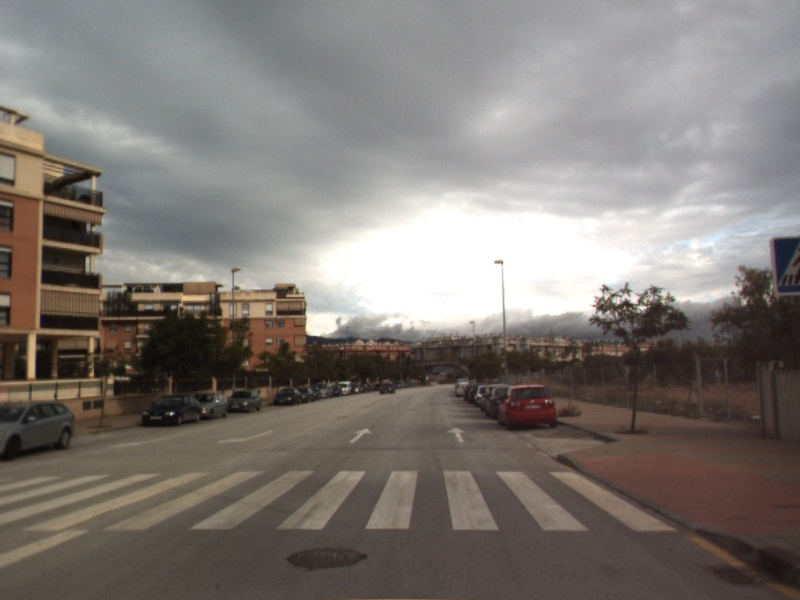STRAIGHT: (348, 426, 374, 445), (444, 425, 468, 444)
